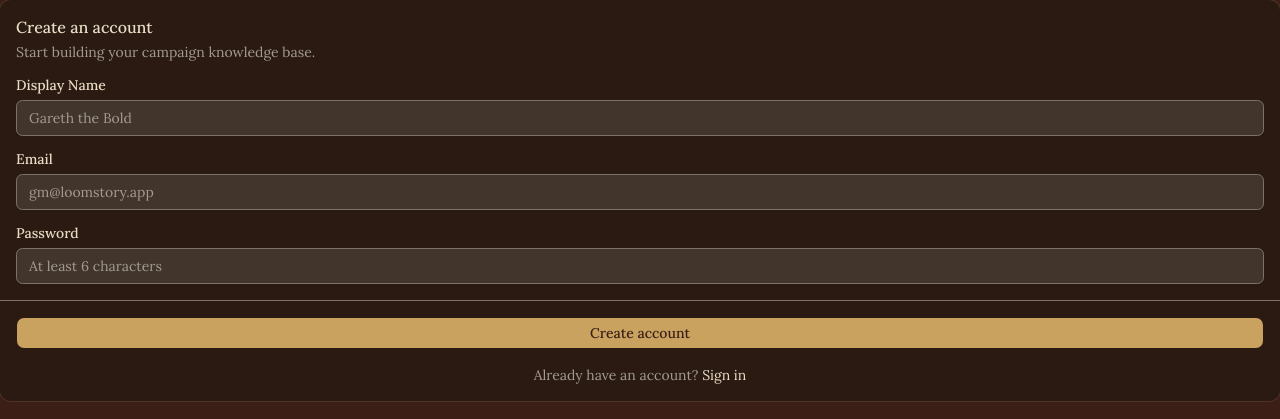
Test: RegisterPage › shows success message after signup
The image size is (1280, 419).
Type "Test GM" into the field labelled "Display Name".
click(640, 118); type("Test GM")  # box [16,100,1264,136]
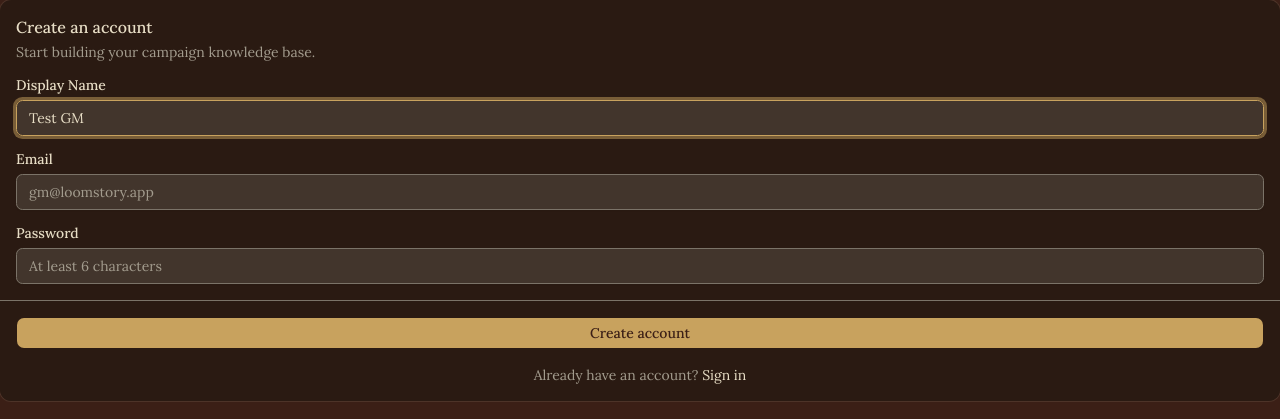
Type "gm@test.com" into the field labelled "Email".
click(640, 192); type("gm@test.com")  # box [16,174,1264,210]
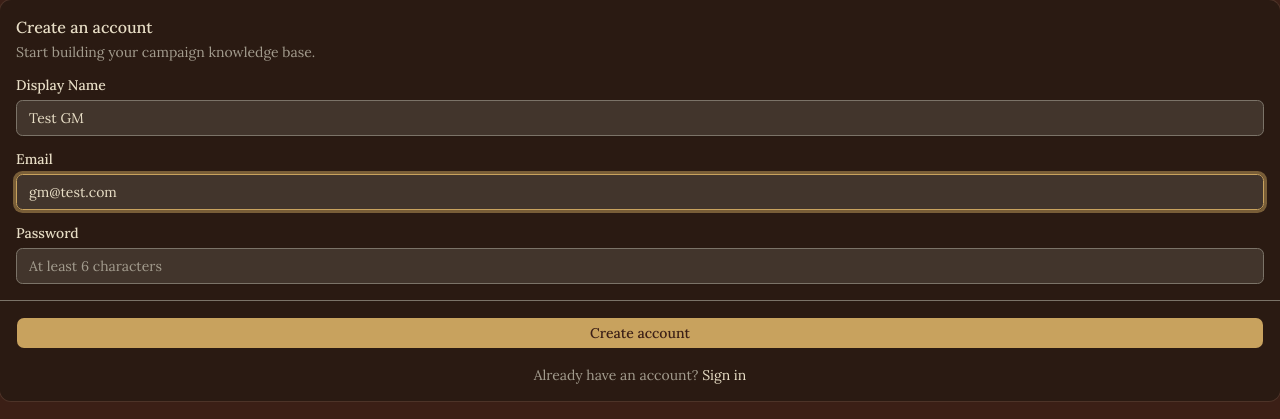
Type "password123" into the password field labelled "Password".
click(640, 266); type("password123")  # box [16,248,1264,284]
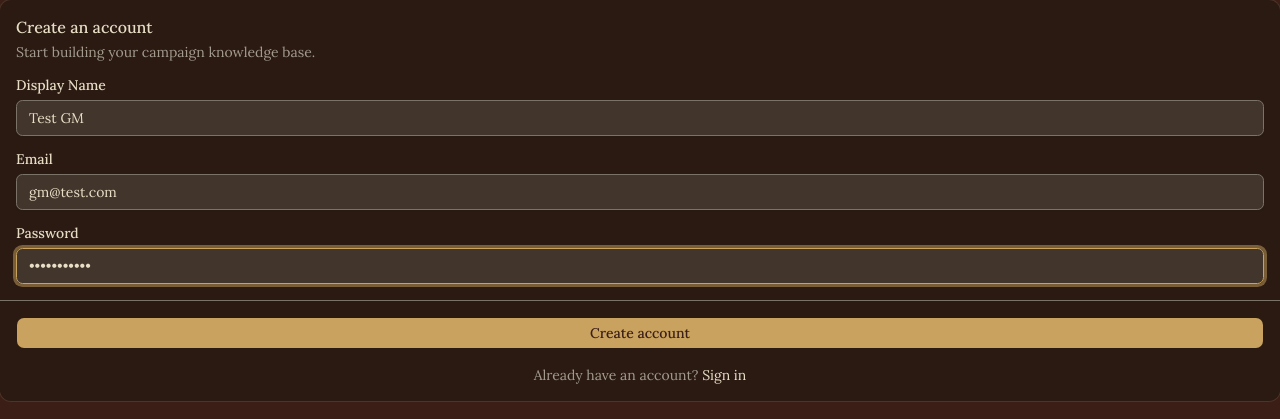
Click the button "Create account".
click(640, 333)  # box [16,317,1264,349]
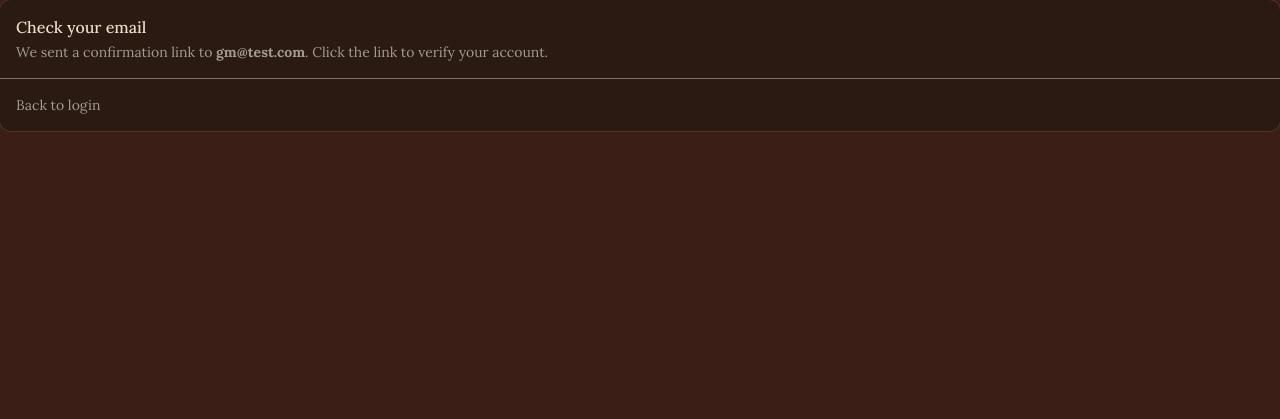
Now the text "Check your email" is shown, box [16,17,146,37]
